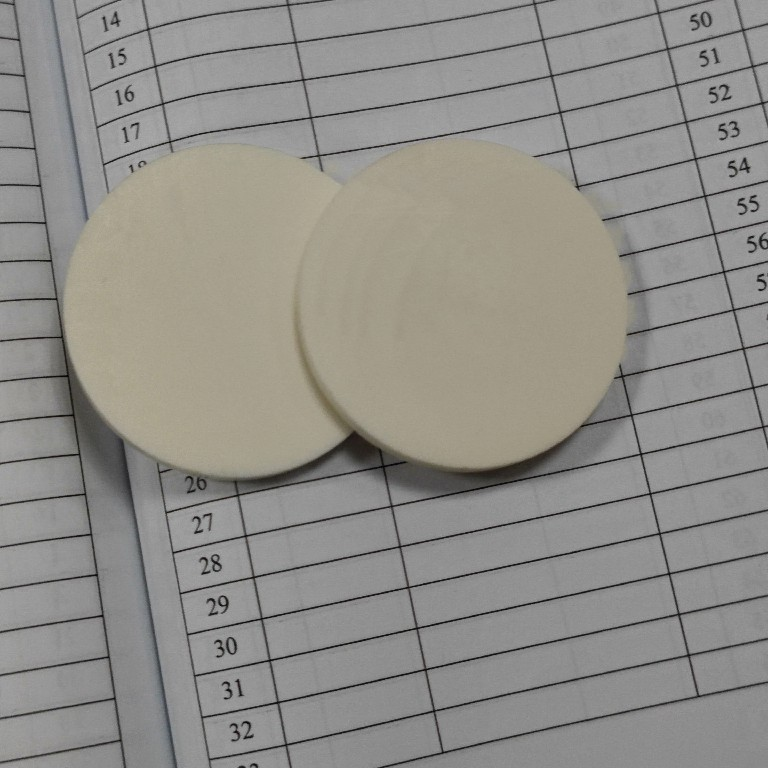ceramics: (55, 135, 639, 485)
